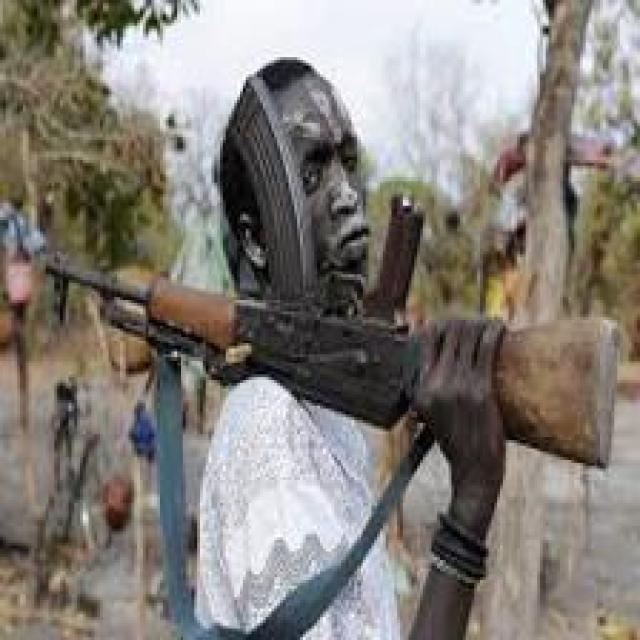Rifle: (30, 213, 624, 476)
